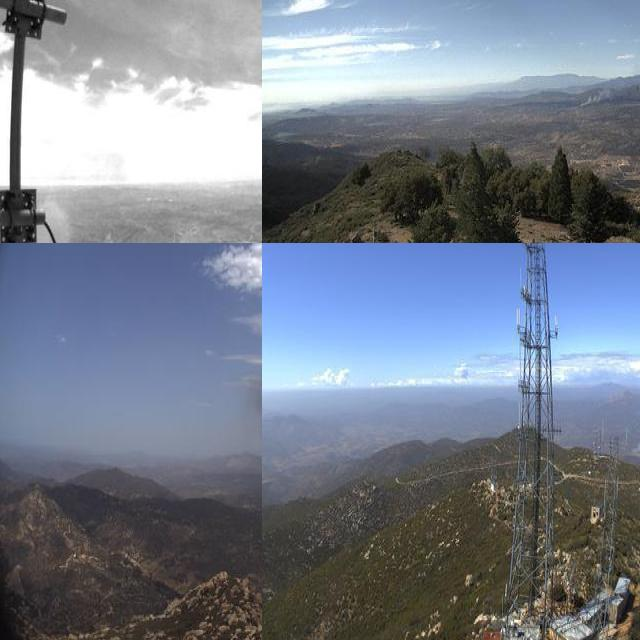smoke: (575, 67, 634, 113), (39, 195, 84, 243)
